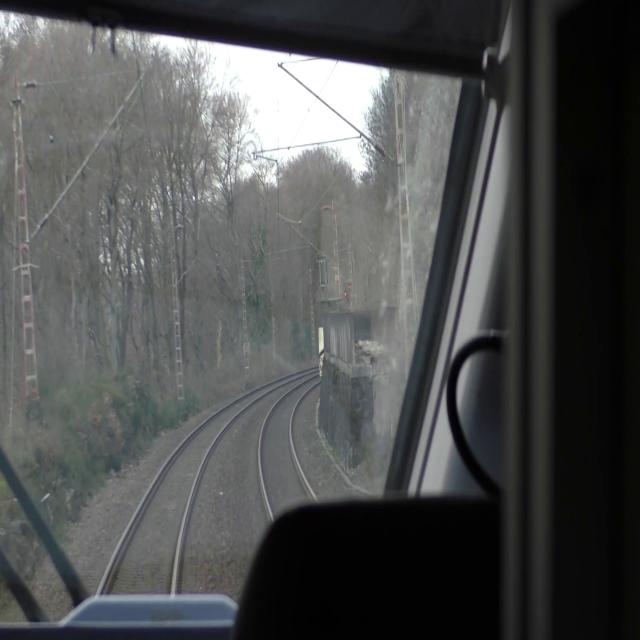rail-track: (104, 389, 263, 590), (263, 377, 318, 514)
